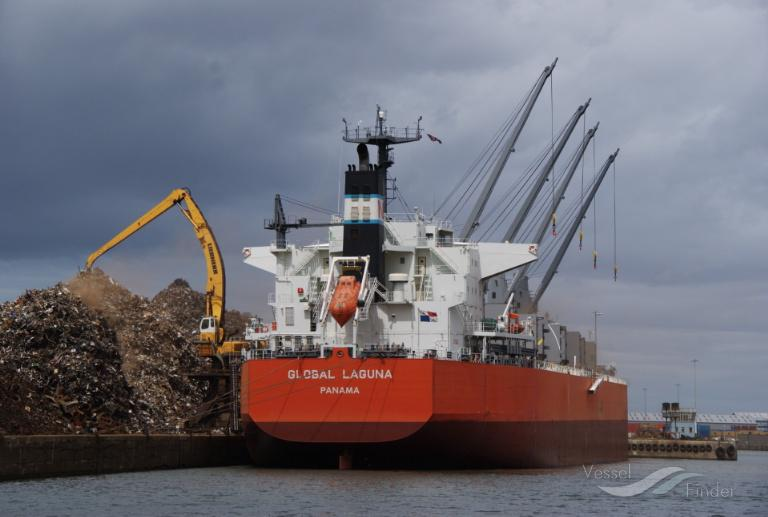OCR: (280, 362, 396, 406)
